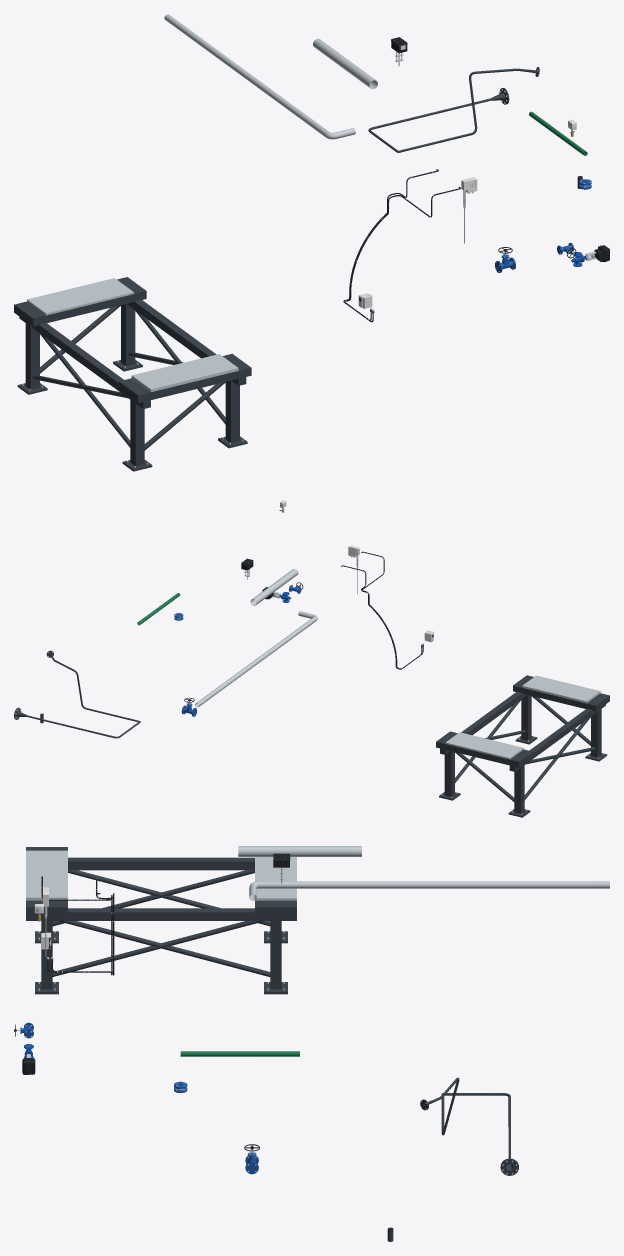
3 views of the same model, one above another, from view 1: azimuth 30°, elevation 25°; view 2: azimuth 150°, elevation 25°; view 3: azimuth 270°, elevation 25° (orthographic). The views are drawn at different scales.
Visible parts, largest first — view 1: deaerator_support / dark, deaerator_support / steel, safety_vent_2 / steel, steam_delivery / steel, tds_without_fv / dark, tds_to_fv / dark; view 2: deaerator_support / dark, deaerator_support / steel, safety_vent_2 / steel, steam_delivery / steel; view 3: deaerator_support / dark, deaerator_support / steel, safety_vent_2 / steel, steam_delivery / steel, pump_delivery / green, tds_to_fv / dark.
Boxes of the visible parts, <box> form: deaerator_support / dark: <box>14,277,251,471</box>; deaerator_support / steel: <box>22,278,243,467</box>; safety_vent_2 / steel: <box>164,14,355,139</box>; steam_delivery / steel: <box>313,38,377,89</box>; tds_without_fv / dark: <box>397,67,539,152</box>; tds_to_fv / dark: <box>368,88,509,152</box>; deaerator_support / dark: <box>436,675,609,817</box>; deaerator_support / steel: <box>442,675,603,814</box>; safety_vent_2 / steel: <box>195,611,317,707</box>; steam_delivery / steel: <box>250,569,298,605</box>; deaerator_support / dark: <box>26,847,296,994</box>; deaerator_support / steel: <box>26,850,296,990</box>; safety_vent_2 / steel: <box>249,881,609,900</box>; steam_delivery / steel: <box>238,846,361,856</box>; pump_delivery / green: <box>180,1051,299,1056</box>; tds_to_fv / dark: <box>445,1093,518,1175</box>.
Size of the model in its own units: 8.08 by 3.24 by 6.25.
